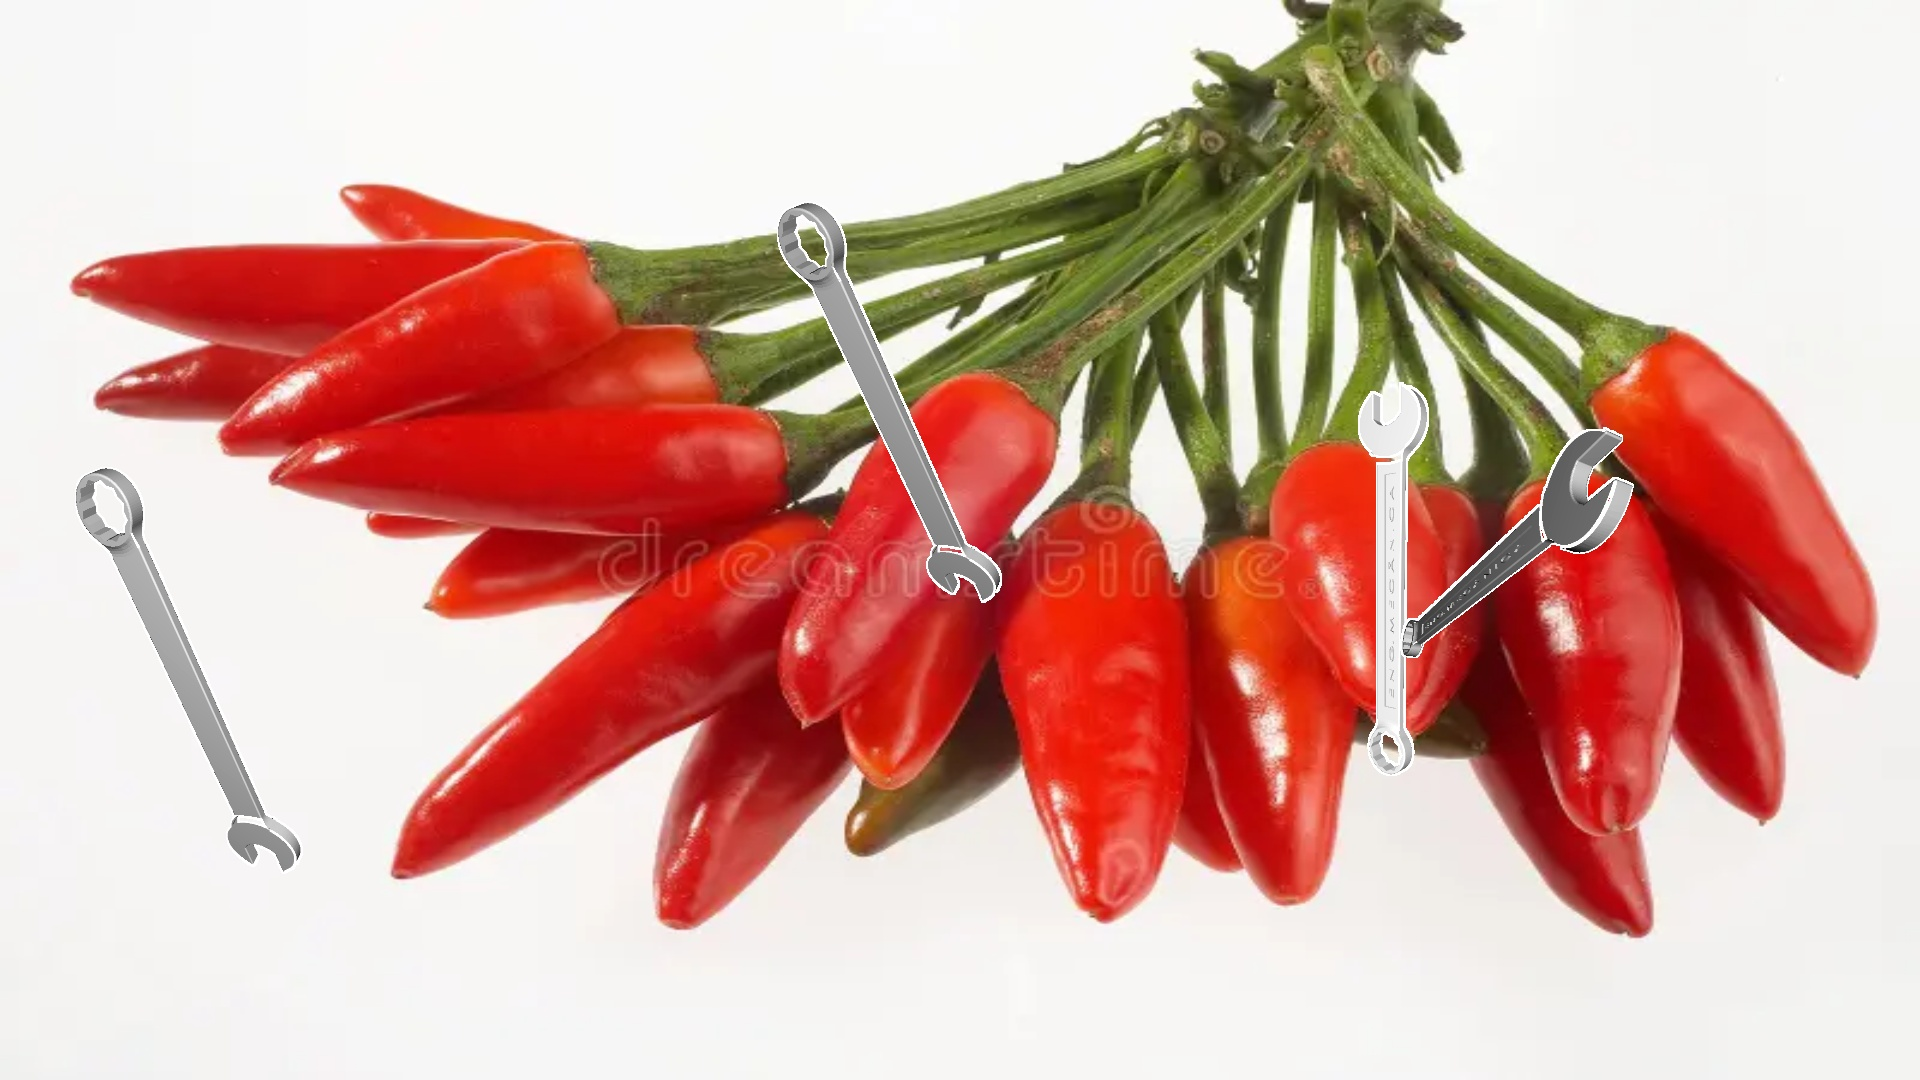Mixed Key: (75, 467, 302, 873), (777, 200, 1001, 603), (1400, 427, 1633, 657), (1358, 382, 1428, 775)
